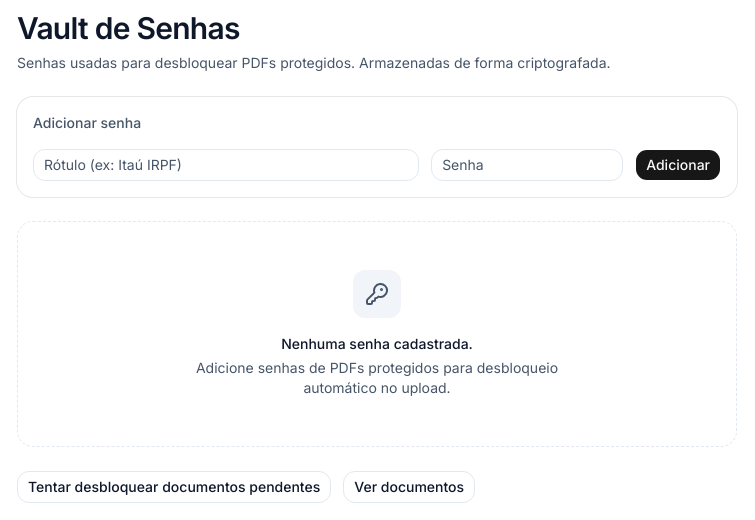
Test case: VaultPage › adicionar senha → reload + mostra success
Expected: the heading "Nenhuma senha cadastrada." is shown, [281,334,473,354]
Type "Nova" into the field with placeholder "Rótulo (ex: Itaú IRPF)" at coordinates (226, 165), box [33,149,419,181]
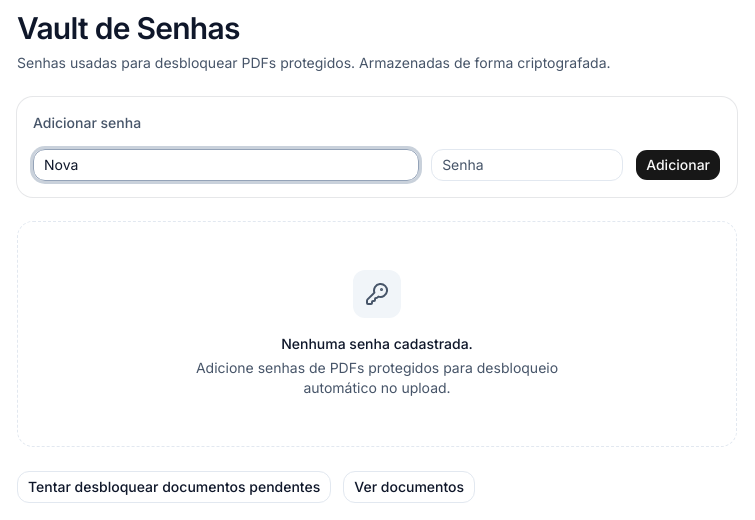
Type "secret" into the password field with placeholder "Senha" at coordinates (527, 165), box [431,149,623,181]
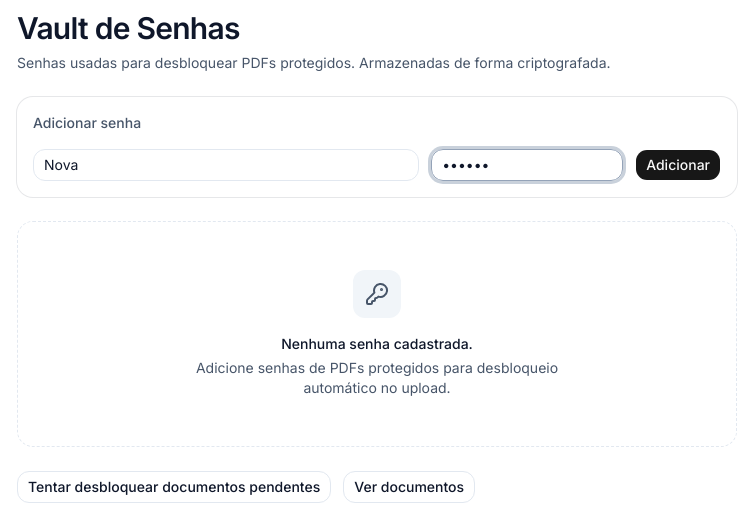
Click the button "Adicionar" at coordinates (678, 165), box [635,149,721,181]
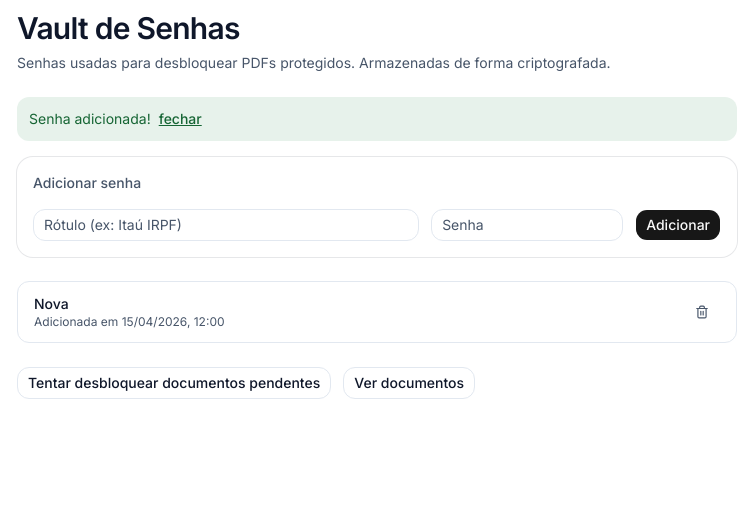
Now the text "Senha adicionada! fechar" is shown, box [17,97,737,141]
Now the text "Nova" is shown, box [34,295,69,312]
